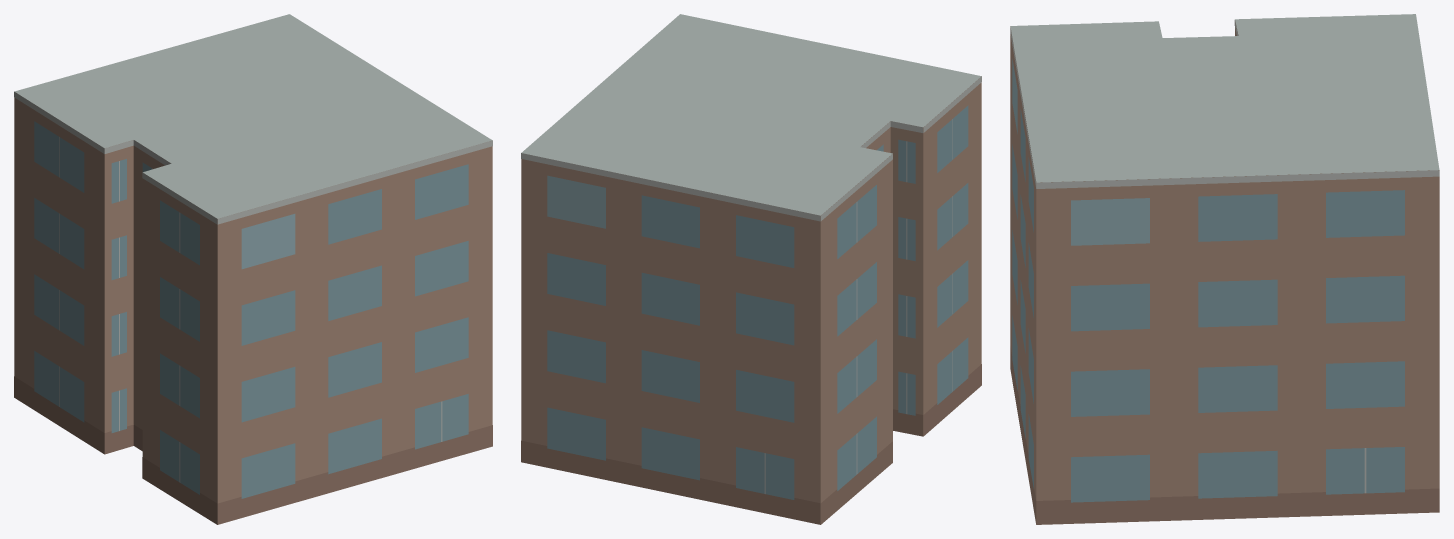
File: survey-upis-32738175.glb
3 views of the same model, side by side, from view 1: azimuth 30°, elevation 25°; view 2: azimuth 150°, elevation 25°; view 3: azimuth 270°, elevation 25° (orthographic). The views are drawn at different scales.
Parts seen in each view (by area): view 1: survey-upis-32738175.tmp; view 2: survey-upis-32738175.tmp; view 3: survey-upis-32738175.tmp.
Part boxes in pixels (x1,y1,x2,y2): survey-upis-32738175.tmp: (14, 14, 492, 524); survey-upis-32738175.tmp: (521, 14, 981, 524); survey-upis-32738175.tmp: (1010, 14, 1439, 524).
Bounding box in the file's own units: 13.53 × 12.8 × 14.55.
